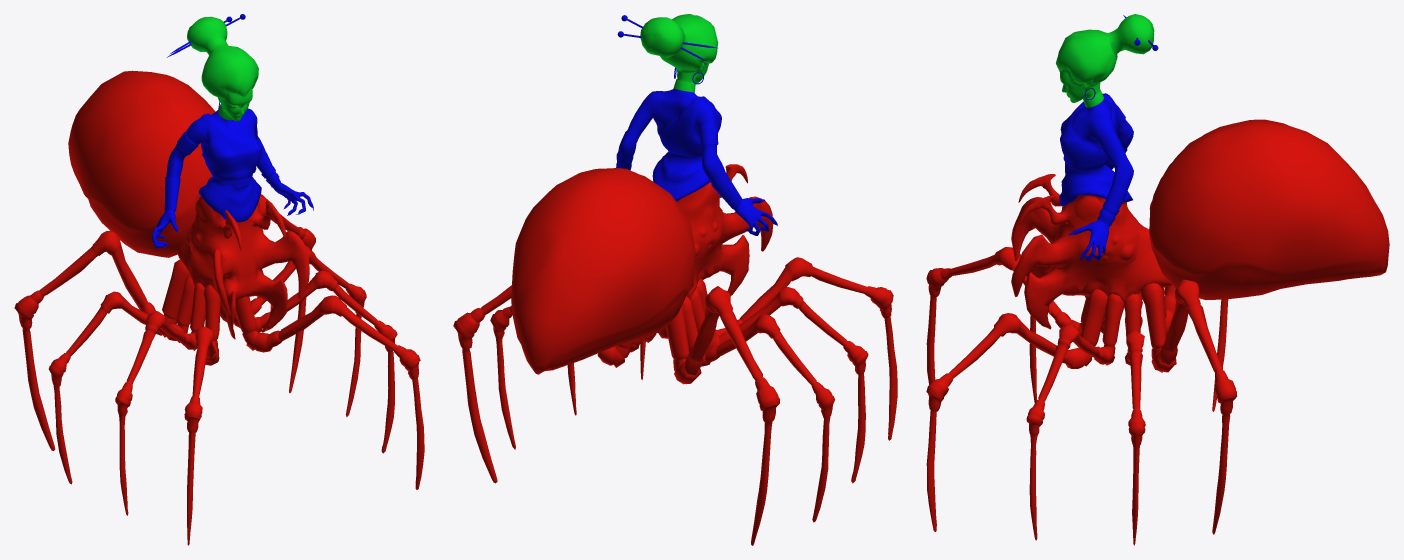
The model's file is Arachne.fbx.
3 renders of one model, left to right at view 1: azimuth 30°, elevation 25°; view 2: azimuth 150°, elevation 25°; view 3: azimuth 270°, elevation 25°, orthographic. The views are drawn at different scales.
Visible parts, largest first — view 1: Arachne3:Torso_lp, Arachne3:Abdomen_lp, Arachne3:LegSet4_dx, Arachne3:LegSet1_sx, Arachne3:LegSet3_dx, Arachne3:LegSet1_dx, Arachne3:LegSet2_dx, Arachne3:LegSet2_sx, Arachne3:LegSet3_sx, Arachne3:LegSet4_sx; view 2: Arachne3:Abdomen_lp, Arachne3:Torso_lp, Arachne3:LegSet4_dx, Arachne3:LegSet1_dx, Arachne3:LegSet3_dx, Arachne3:LegSet2_dx, Arachne3:LegSet4_sx, Arachne3:LegSet3_sx; view 3: Arachne3:Abdomen_lp, Arachne3:Torso_lp, Arachne3:LegSet4_sx, Arachne3:LegSet1_sx, Arachne3:LegSet2_sx, Arachne3:LegSet3_sx, Arachne3:LegSet1_dx, Arachne3:LegSet4_dx.
Part boxes in pixels (<box>): Arachne3:Torso_lp: <box>152,16,313,339</box>; Arachne3:Abdomen_lp: <box>68,70,215,257</box>; Arachne3:LegSet4_dx: <box>14,230,189,450</box>; Arachne3:LegSet1_sx: <box>235,295,424,489</box>; Arachne3:LegSet3_dx: <box>48,276,194,484</box>; Arachne3:LegSet1_dx: <box>184,285,221,545</box>; Arachne3:LegSet2_dx: <box>115,283,205,515</box>; Arachne3:LegSet2_sx: <box>235,270,397,453</box>; Arachne3:LegSet3_sx: <box>234,245,366,417</box>; Arachne3:LegSet4_sx: <box>220,194,315,392</box>; Arachne3:Abdomen_lp: <box>511,168,695,374</box>; Arachne3:Torso_lp: <box>616,14,777,299</box>; Arachne3:LegSet4_dx: <box>666,286,779,545</box>; Arachne3:LegSet1_dx: <box>696,257,897,440</box>; Arachne3:LegSet3_dx: <box>683,296,834,522</box>; Arachne3:LegSet2_dx: <box>690,286,868,483</box>; Arachne3:LegSet4_sx: <box>453,285,633,483</box>; Arachne3:LegSet3_sx: <box>490,305,642,449</box>; Arachne3:Abdomen_lp: <box>1149,119,1389,299</box>; Arachne3:Torso_lp: <box>1011,14,1171,329</box>; Arachne3:LegSet4_sx: <box>1140,279,1237,534</box>; Arachne3:LegSet1_sx: <box>926,289,1107,531</box>; Arachne3:LegSet2_sx: <box>1026,293,1123,540</box>; Arachne3:LegSet3_sx: <box>1124,294,1145,545</box>; Arachne3:LegSet1_dx: <box>926,247,1088,385</box>; Arachne3:LegSet4_dx: <box>1162,285,1228,411</box>.
Size of the model in its own units: 95.83 by 125 by 114.
